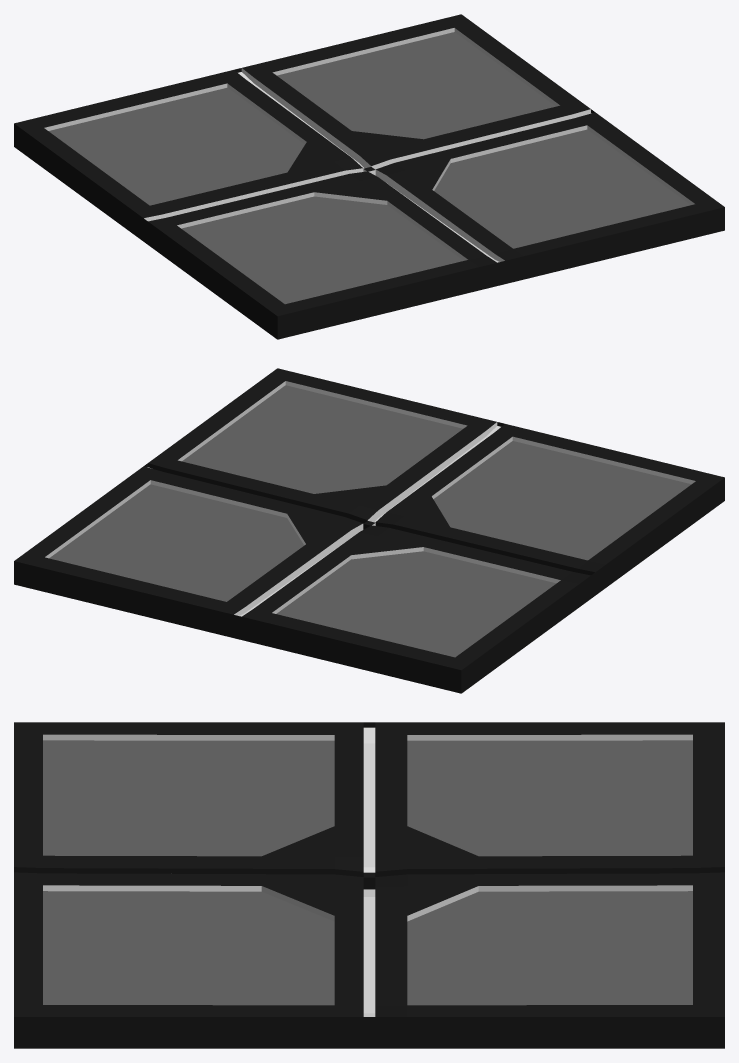
Rendered from SciFi_floor_(M4tt30).fbx.
3 renders of one model, top to bottom at view 1: azimuth 30°, elevation 25°; view 2: azimuth 150°, elevation 25°; view 3: azimuth 270°, elevation 25°, orthographic. The views are drawn at different scales.
Parts seen in each view (by area): view 1: Cube.004; view 2: Cube.004; view 3: Cube.004.
Boxes of the visible parts, x1,y1,x2,y2 form: Cube.004: (14,14,724,339); Cube.004: (14,368,724,693); Cube.004: (14,722,724,1048).
Size of the model in its own units: 200 by 10 by 204.
2 materials, 1 textured.
